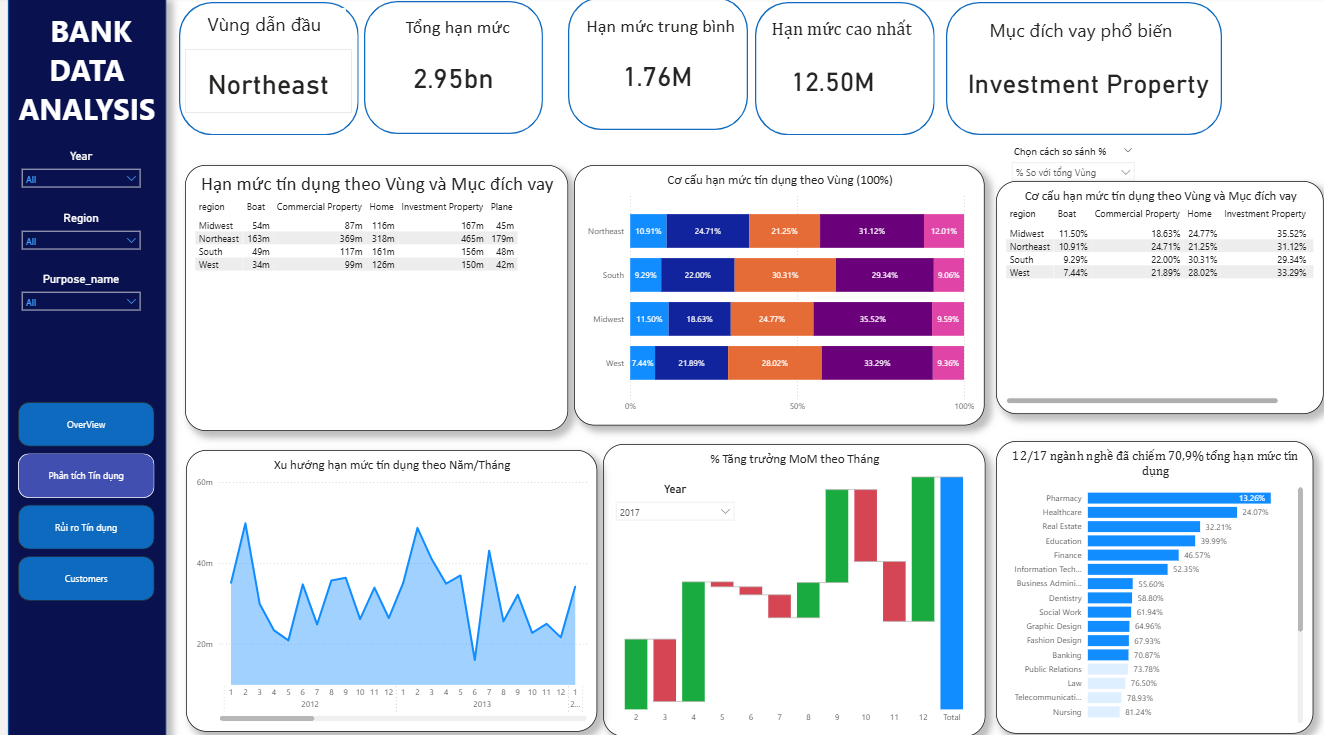

Layout of this report page (visuals, bound fields, positions):
{"tool":"powerbi","page":{"name":"Phân tích Tín dụng","canvas":[1920,1080],"ordinal":1},"visuals":[{"type":"shape","box":[0,0,230.8,1080.8],"z":0},{"type":"textbox","box":[0,14.4,230.5,267.6],"z":1000},{"type":"pivotTable","title":"Hạn mức tín dụng theo Vùng và Mục đích vay","fields":{"Rows":["dim_location.region"],"Columns":["dim_purpose.purpose_name"],"Values":["Measure_Trans.Tổng hạn mức tín dụng (tr)"]},"box":[257.9,244.5,558.8,388.2],"z":3000},{"type":"shape","box":[249.5,7.3,262.3,194.4],"z":4000},{"type":"textbox","box":[286.1,16.5,207.3,45.9],"z":5000},{"type":"shape","box":[519.4,5.8,261.2,194],"z":6000},{"type":"cardVisual","fields":{"Data":["Measure_Trans.Vùng dẫn đầu"]},"box":[258.2,75.9,243.6,93.4],"z":7000},{"type":"textbox","box":[574.1,22,198.1,45.9],"z":8000},{"type":"shape","box":[817,0,262.6,194],"z":9000},{"type":"textbox","box":[838.9,20.4,240.7,45.2],"z":10000},{"type":"shape","box":[1089.5,7.3,262.3,194.4],"z":11000},{"type":"textbox","box":[1108.8,24.8,243.6,54],"z":12000},{"type":"shape","box":[1368.5,7.3,402.7,194],"z":13000},{"type":"cardVisual","fields":{"Data":["Measure_Page1.Hạn mức cao nhất"]},"box":[1124.9,75.9,191.1,78.8],"z":14000},{"type":"textbox","box":[1426.9,24.8,316.6,51.1],"z":15000},{"type":"waterfallChart","title":"% Tăng trưởng MoM theo Tháng","fields":{"Category":["dim_date.month"],"Y":["Measure_Trans.% Tăng trưởng MoM"]},"box":[867.8,652,557.6,427.2],"z":17000},{"type":"pivotTable","title":"Cơ cấu hạn mức tín dụng theo Vùng và Mục đích vay","fields":{"Rows":["dim_location.region"],"Columns":["dim_purpose.purpose_name"],"Values":["Measure_Trans.% So với tổng Vùng"]},"box":[1441.5,268.4,462.5,339.9],"z":19000},{"type":"clusteredBarChart","title":"12/17 ngành nghề đã chiếm 70,9% tổng hạn mức tín dụng","fields":{"Category":["dim_job.industry"],"Y":["Measure_Trans.Tổng hạn mức tín dụng (tr)"]},"box":[1441.9,647.5,463.1,427.2],"z":20000},{"type":"cardVisual","fields":{"Data":["Measure_Page1.Tổng hạn mức tín dụng"]},"box":[528.1,67.1,243.6,93.4],"z":22000},{"type":"cardVisual","fields":{"Data":["Measure_Page1.Hạn mức TB"]},"box":[825.8,64.2,243.6,93.4],"z":23000},{"type":"cardVisual","fields":{"Data":["Measure_Trans.Mục đích vay phổ biến nhất"]},"box":[1383.1,78.8,402.7,78.8],"z":24000},{"type":"hundredPercentStackedBarChart","title":"Cơ cấu hạn mức tín dụng theo Vùng (100%)","fields":{"Category":["dim_location.region"],"Series":["dim_purpose.purpose_name"],"Y":["Measure_Trans.Tổng hạn mức tín dụng (tr)"]},"box":[826.1,244.5,599.1,380.1],"z":25000},{"type":"slicer","fields":{"Values":["Parameter.Parameter"]},"box":[1454.8,209.6,198.8,59.1],"z":25001},{"type":"areaChart","title":"Xu hướng hạn mức tín dụng theo Năm/Tháng","fields":{"Category":["dim_date.year","dim_date.month"],"Y":["Measure_Trans.Tổng hạn mức tín dụng (tr)"]},"box":[259.3,661,599.5,410.7],"z":25002},{"type":"slicer","title":"Year","fields":{"Values":["dim_date.year"]},"box":[10.2,221.8,192.6,74.4],"z":25004},{"type":"slicer","title":"Region","fields":{"Values":["dim_location.region"]},"box":[10.2,312.2,192.6,74.4],"z":25005},{"type":"slicer","title":"Purpose_name","fields":{"Values":["dim_purpose.purpose_name"]},"box":[10.2,401.2,192.6,74.4],"z":25006},{"type":"slicer","title":"Year","fields":{"Values":["dim_date.year"]},"box":[876.8,707.3,192.6,75.5],"z":25007},{"type":"pageNavigator","box":[14.6,590.9,199.9,290.3],"z":25008}]}

Visuals, with their boxes in screenshot pixels (x1, y1, x2, y2), scaled from the page's 1920x1080 canvas onto the 1324x735 screenshot:
shape: bbox=[0, 0, 159, 734]
textbox: bbox=[0, 10, 159, 192]
"Hạn mức tín dụng theo Vùng và Mục đích vay" pivotTable: bbox=[178, 166, 563, 431]
shape: bbox=[172, 5, 353, 137]
textbox: bbox=[197, 11, 340, 42]
shape: bbox=[358, 4, 538, 136]
cardVisual - Measure_Trans.Vùng dẫn đầu: bbox=[178, 52, 346, 115]
textbox: bbox=[396, 15, 532, 46]
shape: bbox=[563, 0, 744, 132]
textbox: bbox=[578, 14, 744, 45]
shape: bbox=[751, 5, 932, 137]
textbox: bbox=[765, 17, 933, 54]
shape: bbox=[944, 5, 1221, 137]
cardVisual - Measure_Page1.Hạn mức cao nhất: bbox=[776, 52, 907, 105]
textbox: bbox=[984, 17, 1202, 52]
"% Tăng trưởng MoM theo Tháng" waterfallChart: bbox=[598, 444, 983, 734]
"Cơ cấu hạn mức tín dụng theo Vùng và Mục đích vay" pivotTable: bbox=[994, 183, 1313, 414]
"12/17 ngành nghề đã chiếm 70,9% tổng hạn mức tín dụng" clusteredBarChart: bbox=[994, 441, 1314, 731]
cardVisual - Measure_Page1.Tổng hạn mức tín dụng: bbox=[364, 46, 532, 109]
cardVisual - Measure_Page1.Hạn mức TB: bbox=[569, 44, 737, 107]
cardVisual - Measure_Trans.Mục đích vay phổ biến nhất: bbox=[954, 54, 1231, 107]
"Cơ cấu hạn mức tín dụng theo Vùng (100%)" hundredPercentStackedBarChart: bbox=[570, 166, 983, 425]
slicer - Parameter.Parameter: bbox=[1003, 143, 1140, 183]
"Xu hướng hạn mức tín dụng theo Năm/Tháng" areaChart: bbox=[179, 450, 592, 729]
"Year" slicer: bbox=[7, 151, 140, 202]
"Region" slicer: bbox=[7, 212, 140, 263]
"Purpose_name" slicer: bbox=[7, 273, 140, 324]
"Year" slicer: bbox=[605, 481, 737, 533]
pageNavigator: bbox=[10, 402, 148, 600]
